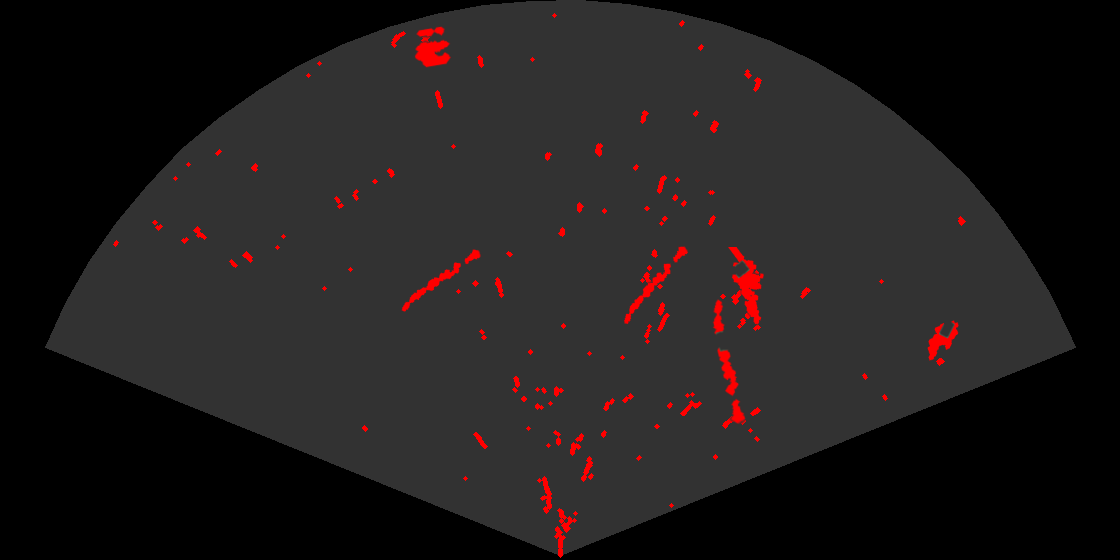AUV: (926, 319, 960, 362)
ball: (413, 25, 453, 69)
chain: (622, 245, 690, 326), (400, 248, 482, 313), (711, 298, 747, 426)
frogman: (727, 247, 765, 326)
